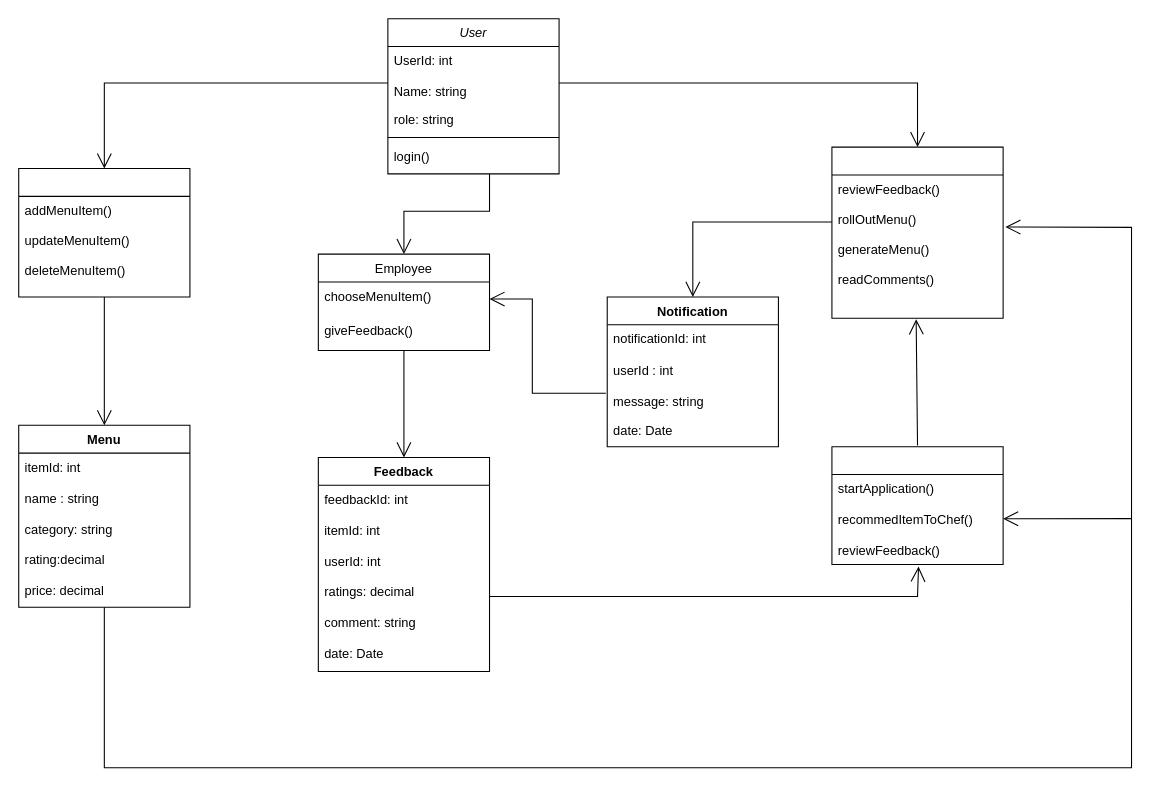
The diagram is 1165 pixels wide and 801 high, and some of its shapes have lost their labels. The box of each missing label's shape, as (x1, y1, x2, y2) in pixels:
Admin: (18, 167, 190, 297)
Chef: (831, 146, 1003, 318)
Recommendation Engine: (831, 446, 1003, 564)
